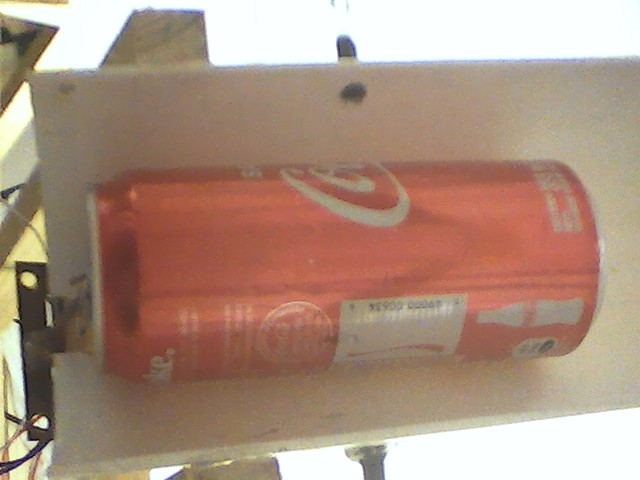lata: (78, 156, 610, 391)
